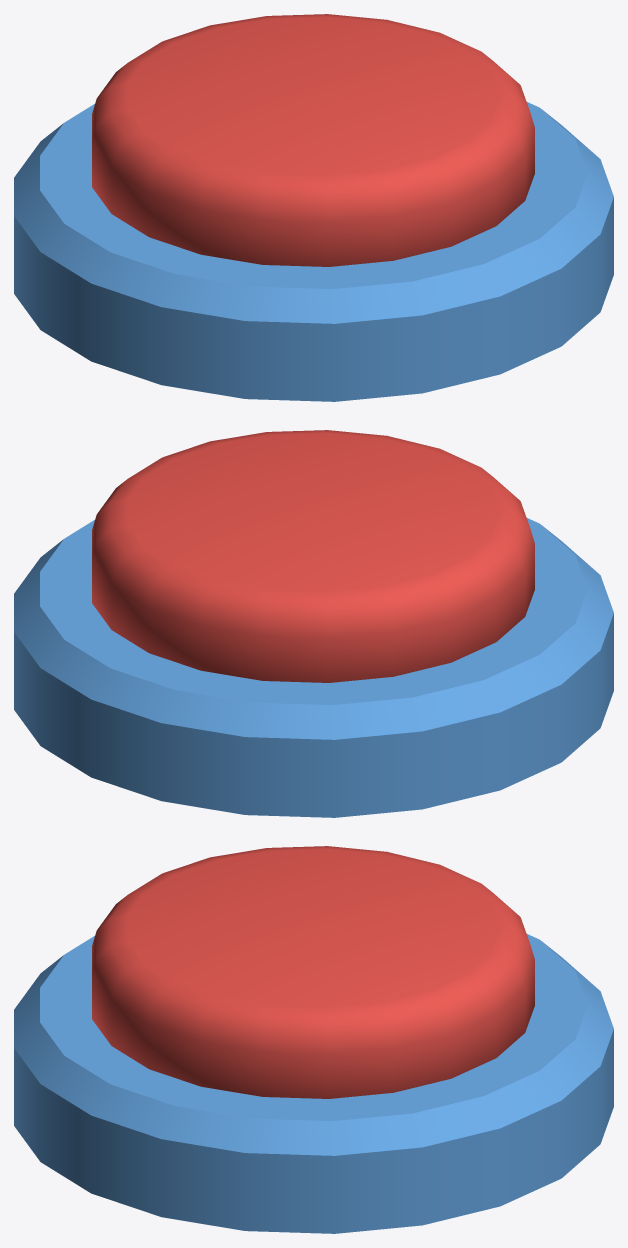
Rendered from button.fbx.
3 renders of one model, top to bottom at view 1: azimuth 30°, elevation 25°; view 2: azimuth 150°, elevation 25°; view 3: azimuth 270°, elevation 25°, orthographic.
Parts seen in each view (by area): view 1: Cylinder, Cylinder.001; view 2: Cylinder, Cylinder.001; view 3: Cylinder, Cylinder.001.
Part boxes in pixels (<box>): Cylinder: <box>14,102,613,401</box>; Cylinder.001: <box>92,14,534,266</box>; Cylinder: <box>14,518,613,817</box>; Cylinder.001: <box>92,430,534,682</box>; Cylinder: <box>14,934,613,1233</box>; Cylinder.001: <box>92,846,534,1098</box>.
Bounding box in the file's own units: 199 × 65.35 × 199.
